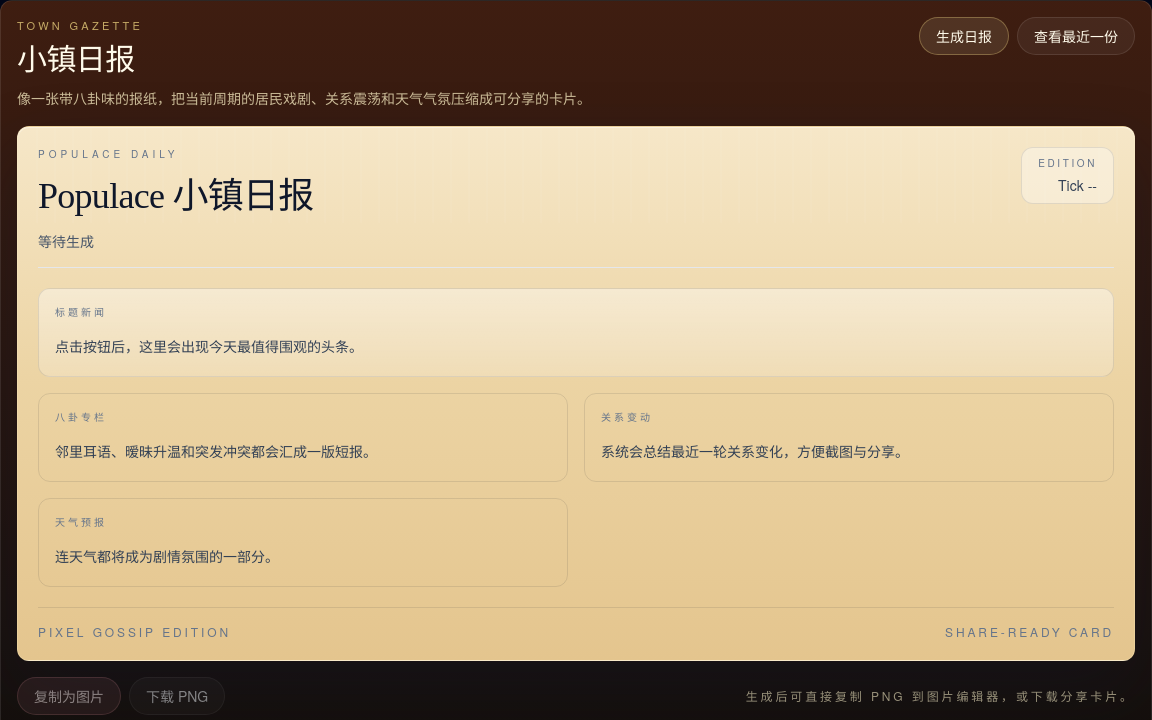
Test: DailyReport notifications › plays the newspaper sound and shows a success toast after generation
Click the button "生成日报": (964, 36) [919,17,1009,55]
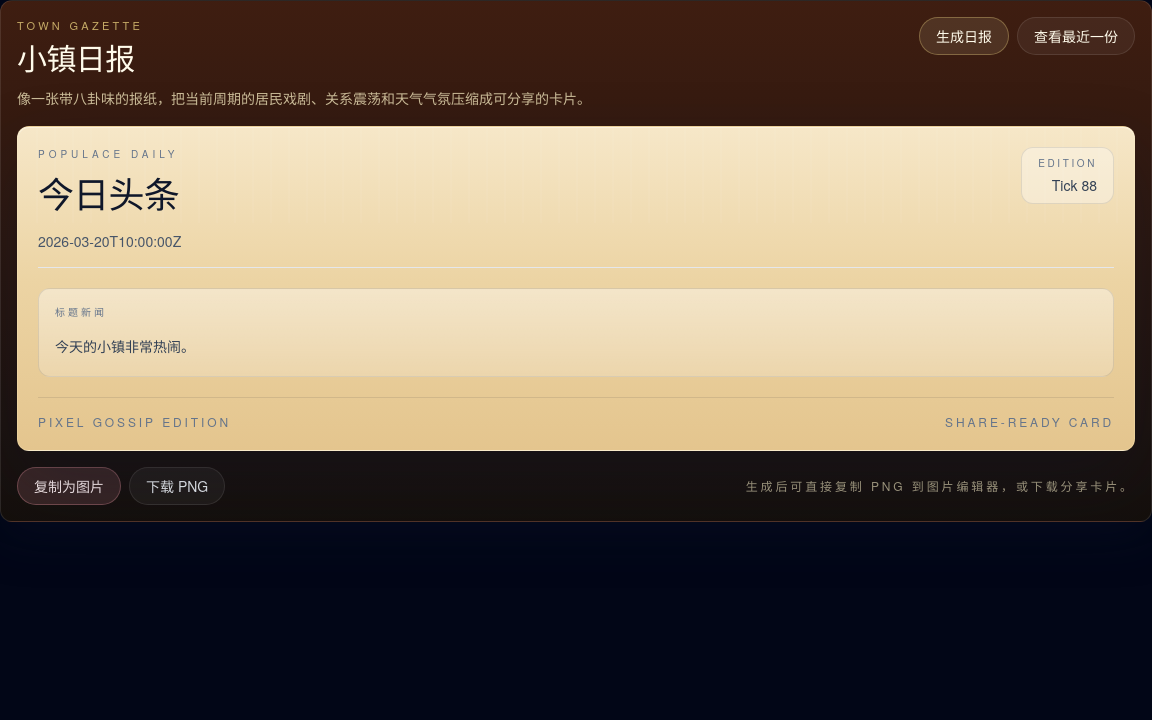
Expected: the heading "今日头条" is shown, [38,174,179,218]
